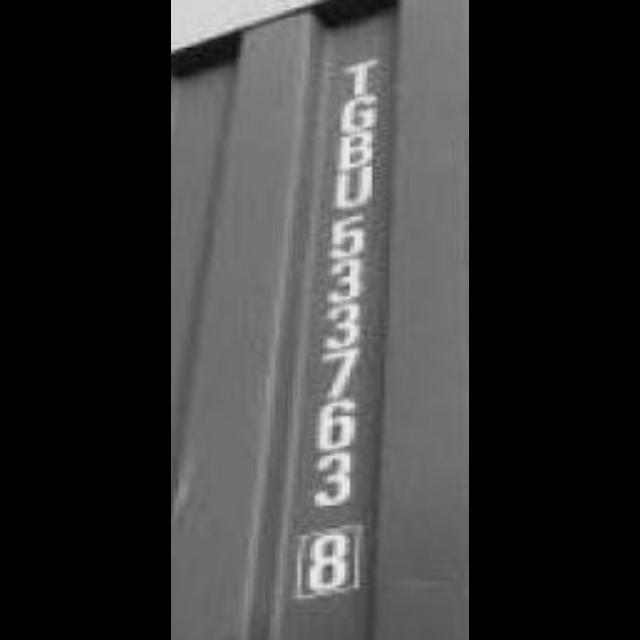3: (304, 452, 362, 512), (314, 300, 371, 352), (321, 256, 371, 308)
5: (323, 208, 375, 266)
6: (308, 398, 367, 454)
7: (312, 344, 370, 404)
8: (291, 520, 361, 602)
b: (331, 128, 381, 178)
g: (334, 92, 388, 140)
t: (342, 46, 382, 100)
u: (330, 168, 380, 210)
